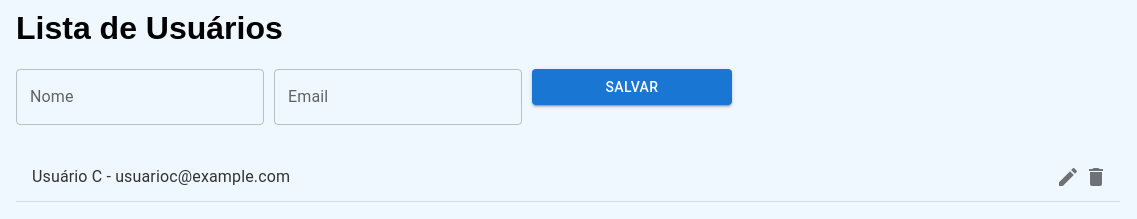
Scenario: deletes a user
This screenshot has width=1137, height=219.
Note: Exclui o usuário
Click the button named "delete": [1096, 177] box [1076,157,1116,197]
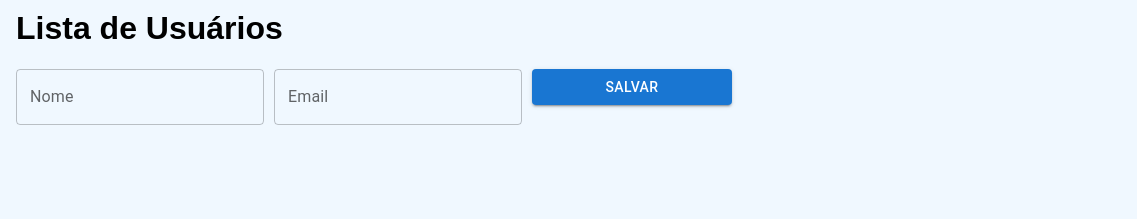
Check: the text "Usuário C - usuarioc@example.com" is gone
